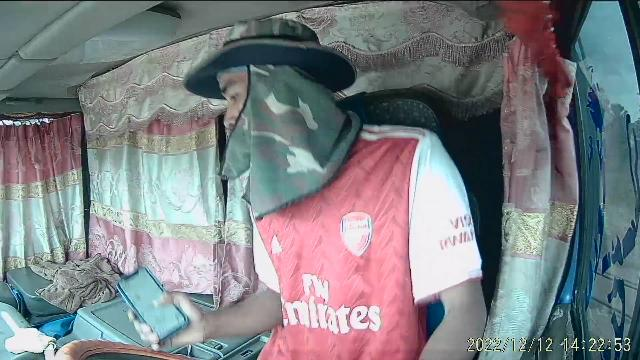Phone: (116, 264, 190, 346)
